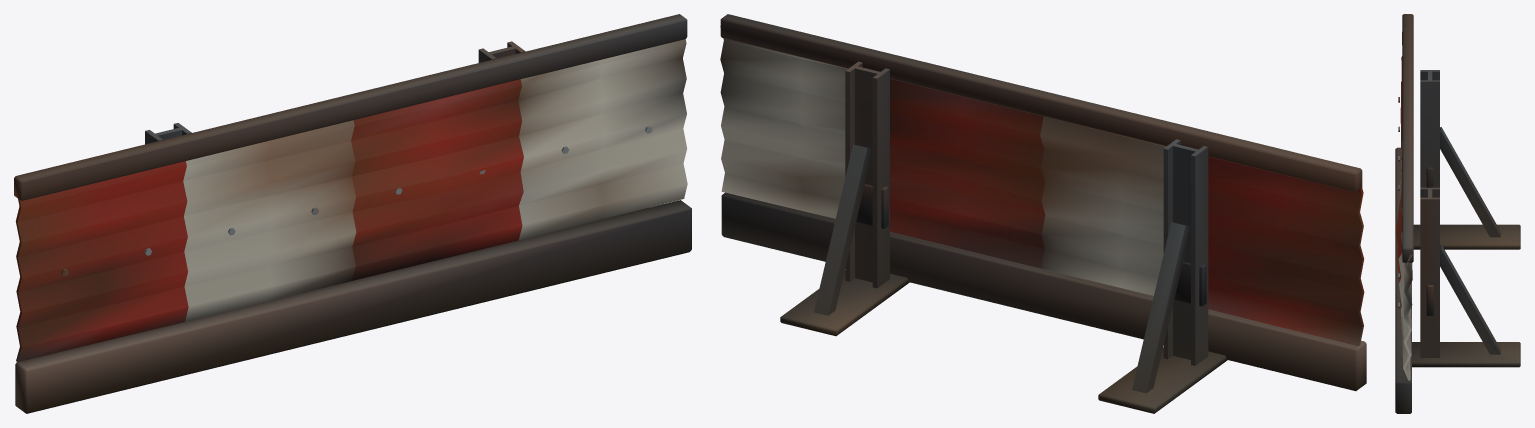
The model's file is derby_barrier.glb.
The picture shows the model from 3 angles, left to right: view 1: azimuth 30°, elevation 25°; view 2: azimuth 150°, elevation 25°; view 3: azimuth 270°, elevation 25°; orthographic projection. The views are drawn at different scales.
Parts seen in each view (by area): view 1: DerbyBarrier; view 2: DerbyBarrier; view 3: DerbyBarrier.
Part boxes in pixels (box(x1,y1,x2,y2)): DerbyBarrier: box(14, 14, 691, 413); DerbyBarrier: box(720, 14, 1366, 413); DerbyBarrier: box(1395, 14, 1520, 413).
Size of the model in its own units: 4 by 1.33 by 0.9.
